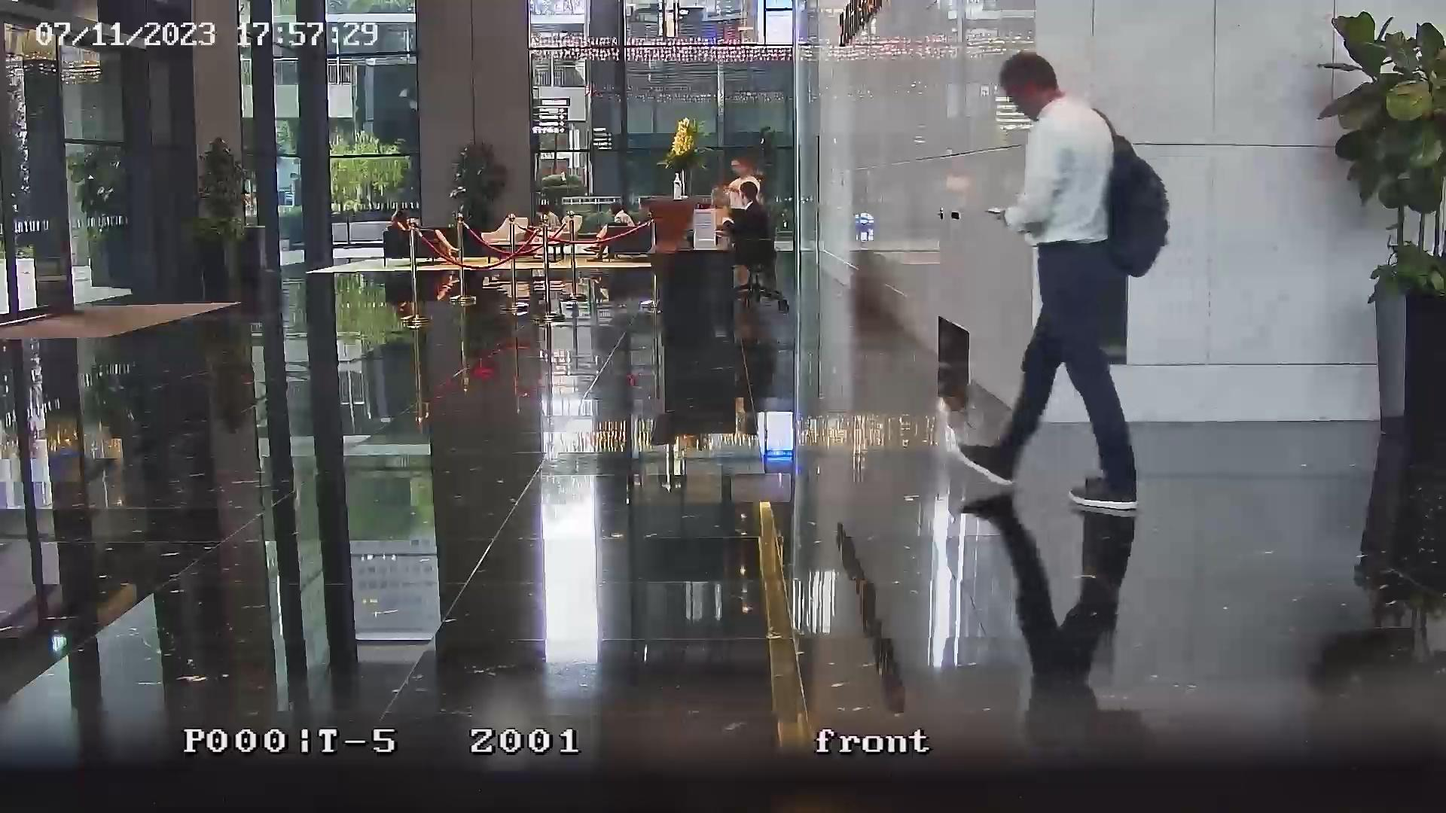person: (958, 49, 1139, 512), (392, 210, 460, 263), (725, 181, 768, 257), (584, 202, 635, 262), (729, 158, 760, 207)
